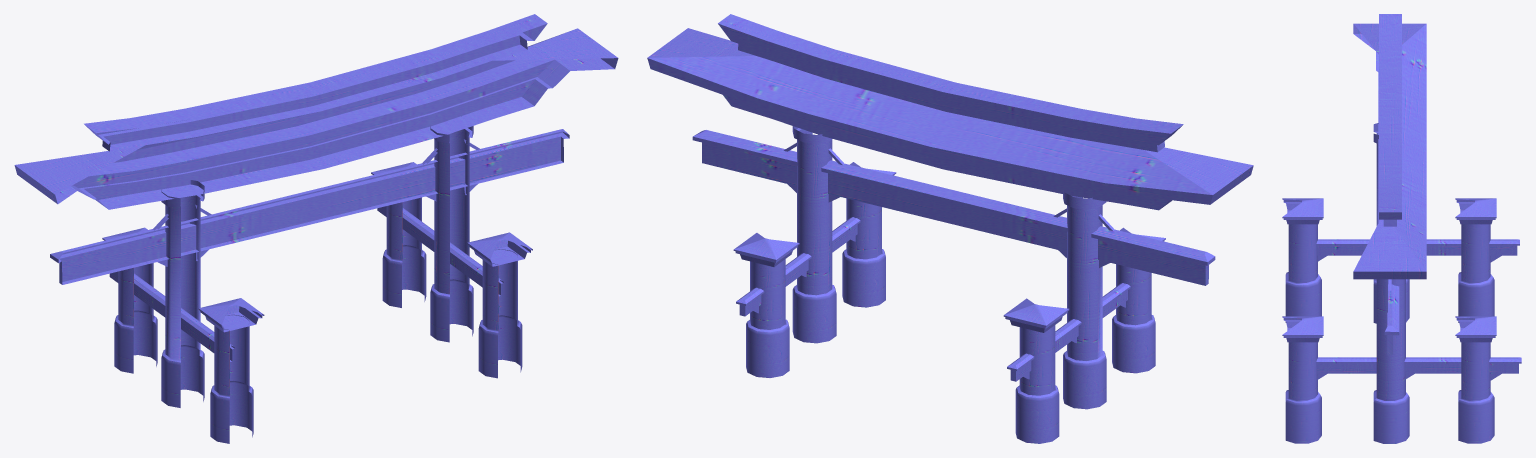
File: Gate.fbx
3 renders of one model, left to right at view 1: azimuth 30°, elevation 25°; view 2: azimuth 150°, elevation 25°; view 3: azimuth 270°, elevation 25°, orthographic. The views are drawn at different scales.
Visible parts, largest first — view 1: MappedGate; view 2: MappedGate; view 3: MappedGate.
Boxes of the visible parts, box(x1,y1,x2,y2) form: MappedGate: box(14, 14, 618, 443); MappedGate: box(647, 14, 1253, 443); MappedGate: box(1282, 14, 1521, 443).
Bounding box in the file's own units: 1819 × 745 × 903.
